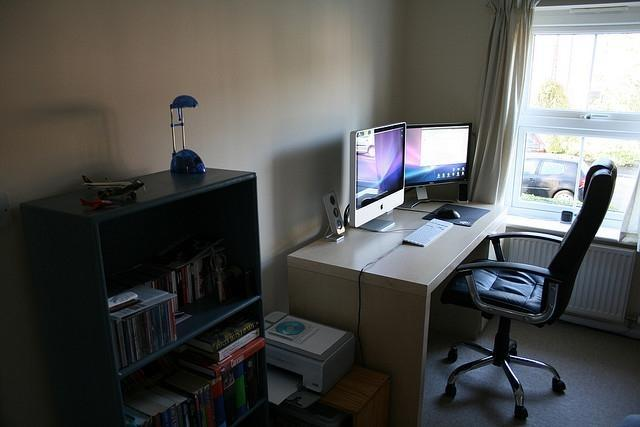car: (522, 157, 586, 203)
